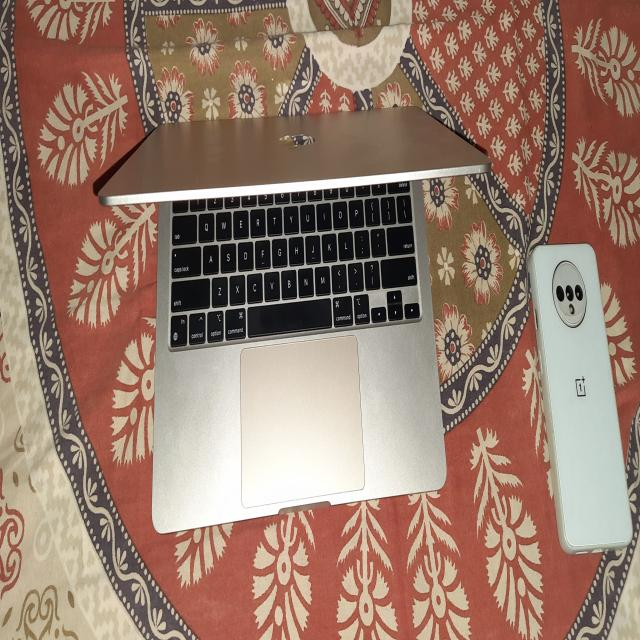Laptop-and-Mobile: (97, 106, 484, 508)
Mobile: (528, 241, 635, 562)
